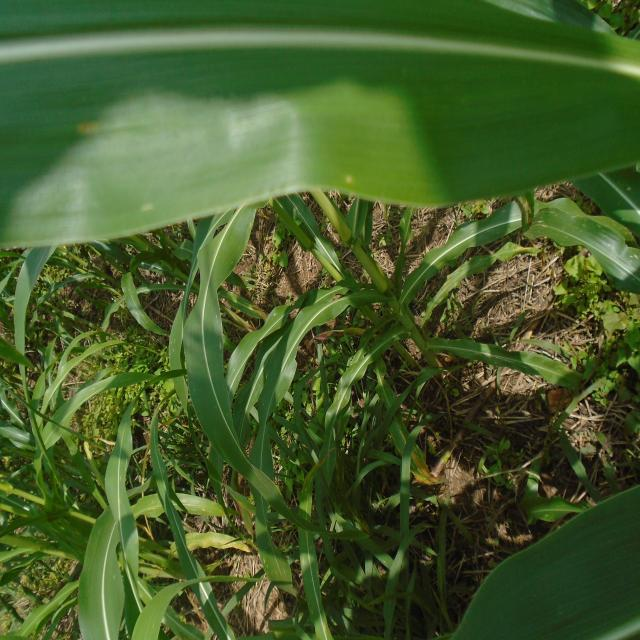fall-armyworm-larval-damage: (0, 0, 640, 640)
healthy-maize: (0, 0, 640, 640)
maize-streak-disease: (0, 0, 640, 640)
